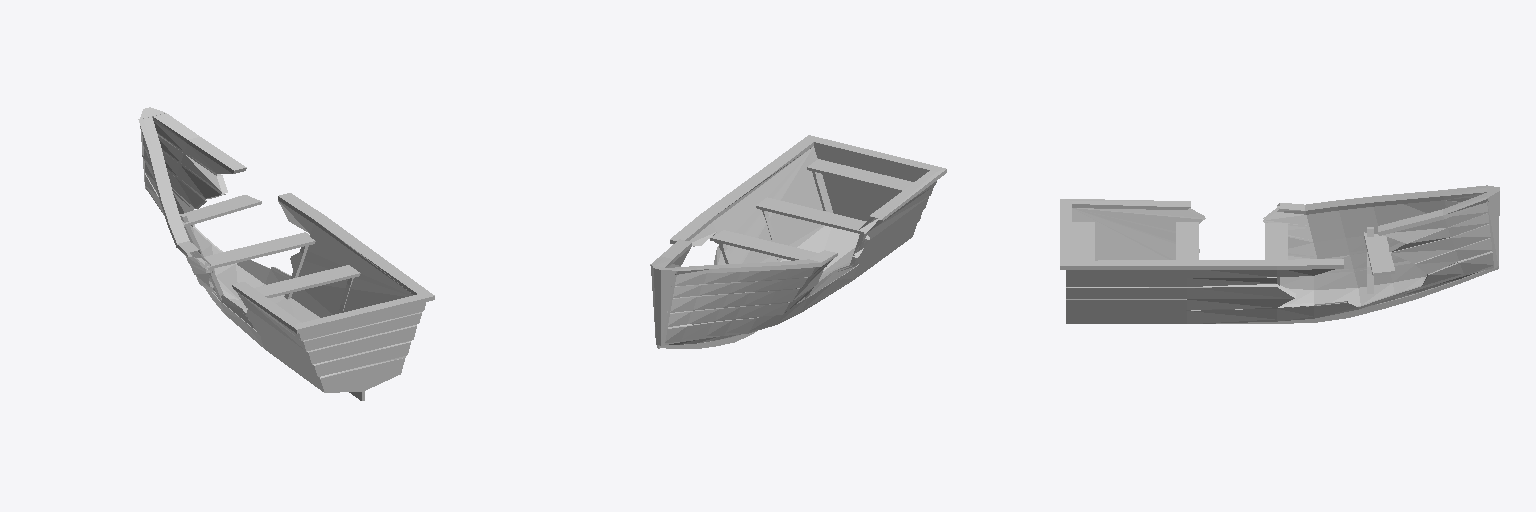
The model's file is RowBoat.OBJ.
3 views of the same model, side by side, from view 1: azimuth 30°, elevation 25°; view 2: azimuth 150°, elevation 25°; view 3: azimuth 270°, elevation 25° (orthographic).
Visible parts, largest first — view 1: Group2; view 2: Group2; view 3: Group2.
Boxes of the visible parts, x1=… form: Group2: x1=138, y1=107, x2=434, y2=400; Group2: x1=650, y1=135, x2=946, y2=348; Group2: x1=1060, y1=185, x2=1499, y2=323.
Bounding box in the file's own units: 177 × 165 × 488.